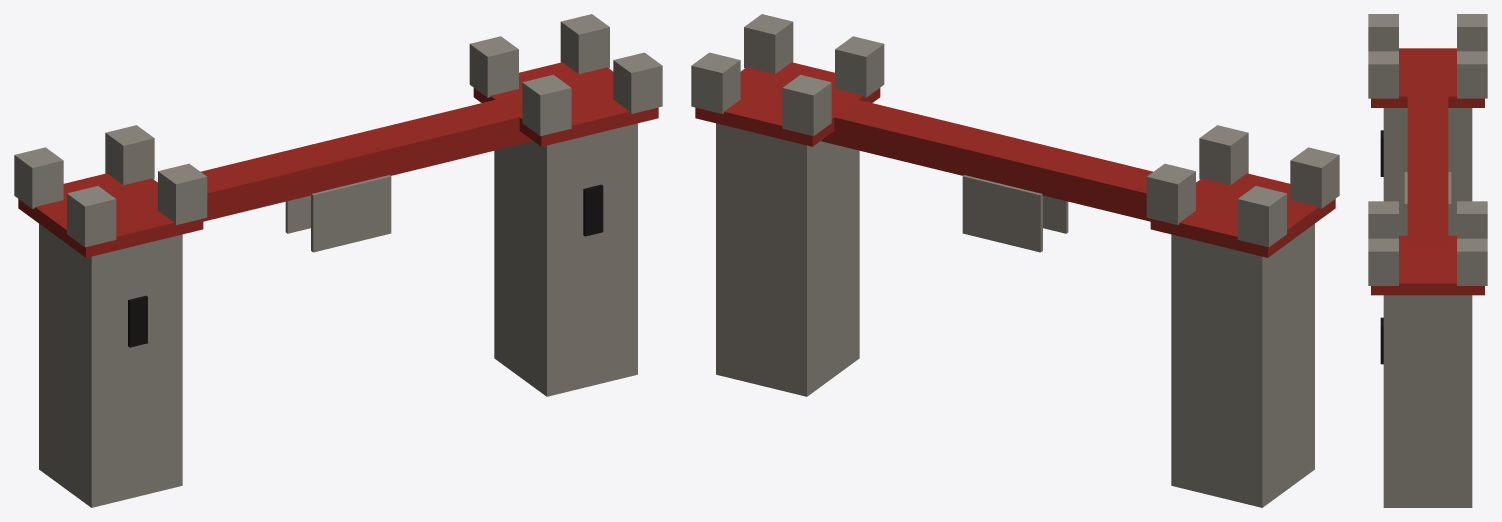
Rendered from dragon_gate_broken.glb.
3 renders of one model, left to right at view 1: azimuth 30°, elevation 25°; view 2: azimuth 150°, elevation 25°; view 3: azimuth 270°, elevation 25°, orthographic. The views are drawn at different scales.
Visible parts, largest first — view 1: dragon_gate_piece2, dragon_gate_piece1, dragon_gate_piece4, dragon_gate_piece0, dragon_gate_piece3, dragon_gate_piece13, dragon_gate_piece9, dragon_gate_piece7, dragon_gate_piece10, dragon_gate_piece8, dragon_gate_piece6, dragon_gate_piece12; view 2: dragon_gate_piece7, dragon_gate_piece4, dragon_gate_piece2, dragon_gate_piece8, dragon_gate_piece10, dragon_gate_piece6, dragon_gate_piece13, dragon_gate_piece3, dragon_gate_piece0, dragon_gate_piece1, dragon_gate_piece12, dragon_gate_piece9 (+2 smaller); view 3: dragon_gate_piece4, dragon_gate_piece7, dragon_gate_piece8, dragon_gate_piece9, dragon_gate_piece1, dragon_gate_piece0, dragon_gate_piece6, dragon_gate_piece13, dragon_gate_piece2.
Part boxes in pixels (x1,y1,x2,y2): dragon_gate_piece2: (18, 201, 182, 507); dragon_gate_piece1: (495, 74, 637, 387); dragon_gate_piece4: (14, 131, 271, 298); dragon_gate_piece0: (320, 36, 520, 186); dragon_gate_piece3: (486, 135, 585, 396); dragon_gate_piece13: (263, 70, 483, 252); dragon_gate_piece9: (507, 52, 662, 206); dragon_gate_piece7: (494, 14, 637, 206); dragon_gate_piece10: (39, 289, 62, 486); dragon_gate_piece8: (494, 197, 637, 334); dragon_gate_piece6: (39, 125, 240, 289); dragon_gate_piece12: (268, 147, 310, 231); dragon_gate_piece7: (691, 52, 832, 257); dragon_gate_piece4: (1075, 125, 1339, 277); dragon_gate_piece2: (1230, 166, 1339, 490); dragon_gate_piece8: (716, 209, 825, 394); dragon_gate_piece10: (1171, 327, 1285, 507); dragon_gate_piece6: (1092, 170, 1262, 365); dragon_gate_piece13: (771, 121, 1113, 233); dragon_gate_piece3: (800, 144, 859, 396); dragon_gate_piece0: (766, 74, 1056, 150); dragon_gate_piece1: (792, 36, 884, 263); dragon_gate_piece12: (964, 165, 1074, 248); dragon_gate_piece9: (740, 14, 844, 153); dragon_gate_piece4: (1368, 14, 1487, 168); dragon_gate_piece7: (1383, 238, 1487, 408); dragon_gate_piece8: (1383, 366, 1472, 507); dragon_gate_piece9: (1368, 236, 1452, 362); dragon_gate_piece1: (1368, 201, 1429, 507); dragon_gate_piece0: (1404, 154, 1487, 244); dragon_gate_piece6: (1443, 51, 1487, 224); dragon_gate_piece13: (1404, 130, 1451, 235); dragon_gate_piece2: (1380, 48, 1456, 235).
Size of the model in its own units: 4.44 by 2.29 by 0.94.
